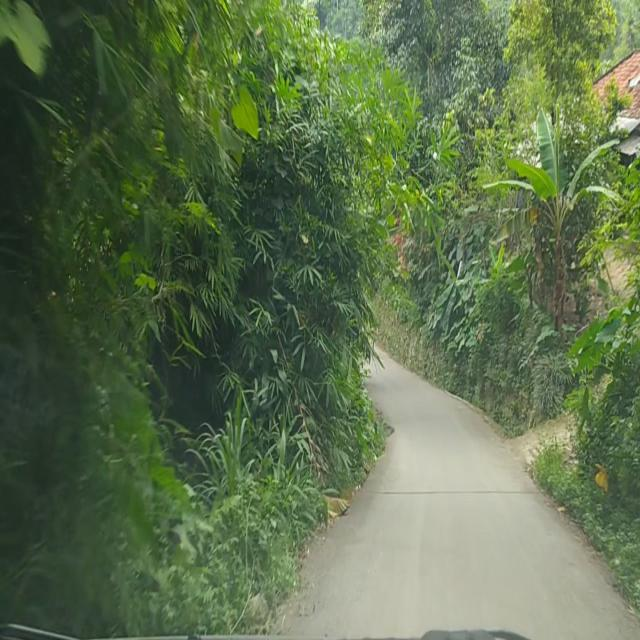Sewer Cover: (362, 487, 534, 495)
